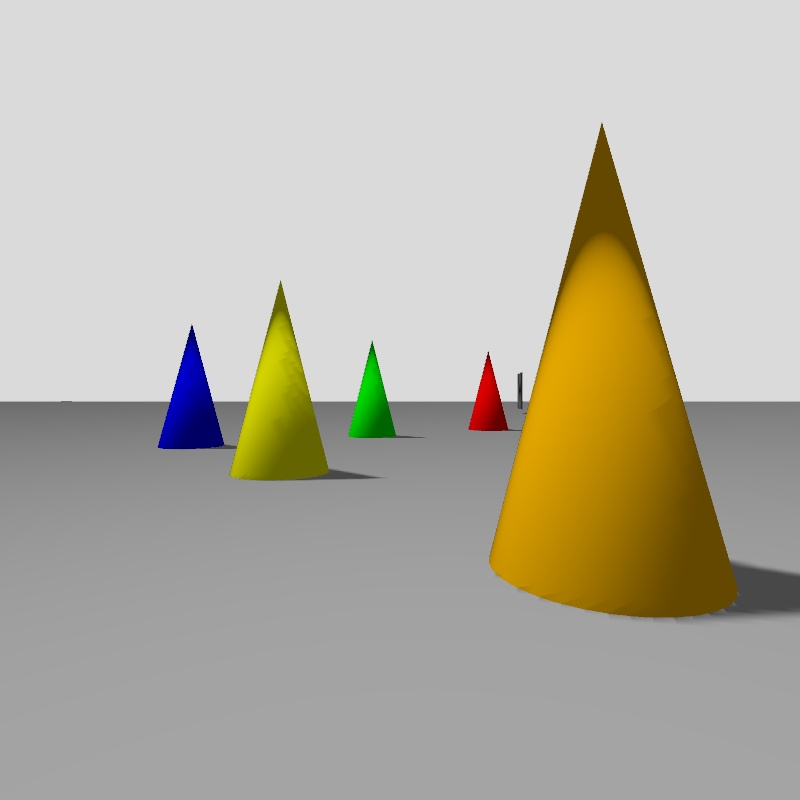Blue_cone: (158, 327, 223, 448)
Green_cone: (350, 343, 395, 436)
Orange_cone: (490, 126, 736, 616)
Red_cone: (469, 352, 507, 429)
Yellow_cone: (231, 284, 328, 479)
